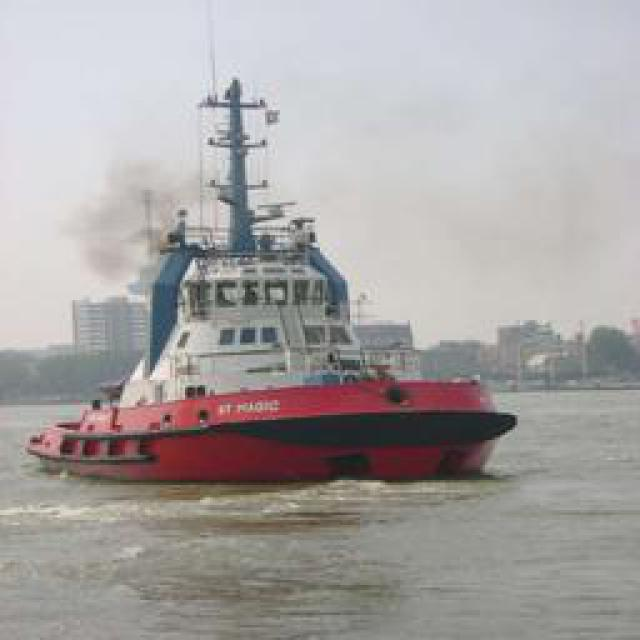Ship: (24, 104, 519, 487)
